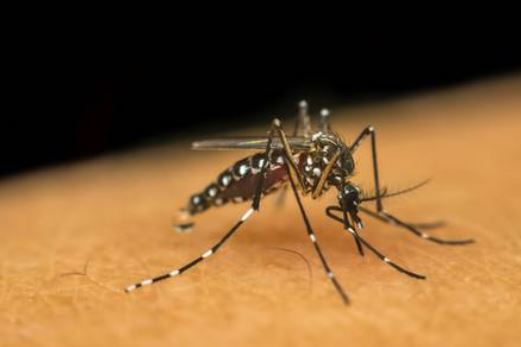dengue_mosquito: (123, 100, 460, 293)
